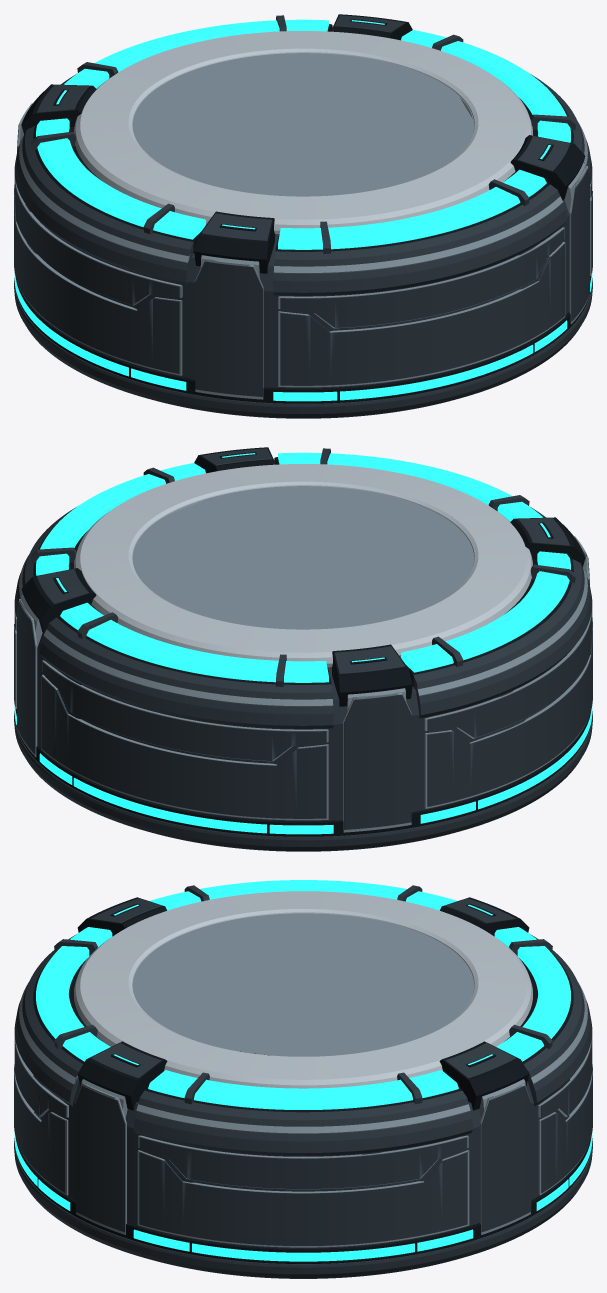
File: Toppler.fbx
The picture shows the model from 3 angles, top to bottom: view 1: azimuth 30°, elevation 25°; view 2: azimuth 150°, elevation 25°; view 3: azimuth 270°, elevation 25°; orthographic projection.
Visible parts, largest first — view 1: SM_Puck_Toppler_HighDetail; view 2: SM_Puck_Toppler_HighDetail; view 3: SM_Puck_Toppler_HighDetail.
Boxes of the visible parts, x1=… form: SM_Puck_Toppler_HighDetail: x1=14, y1=14, x2=592, y2=418; SM_Puck_Toppler_HighDetail: x1=14, y1=447, x2=592, y2=851; SM_Puck_Toppler_HighDetail: x1=14, y1=880, x2=592, y2=1278.
Size of the model in its own units: 90.3 by 90.3 by 30.7.
